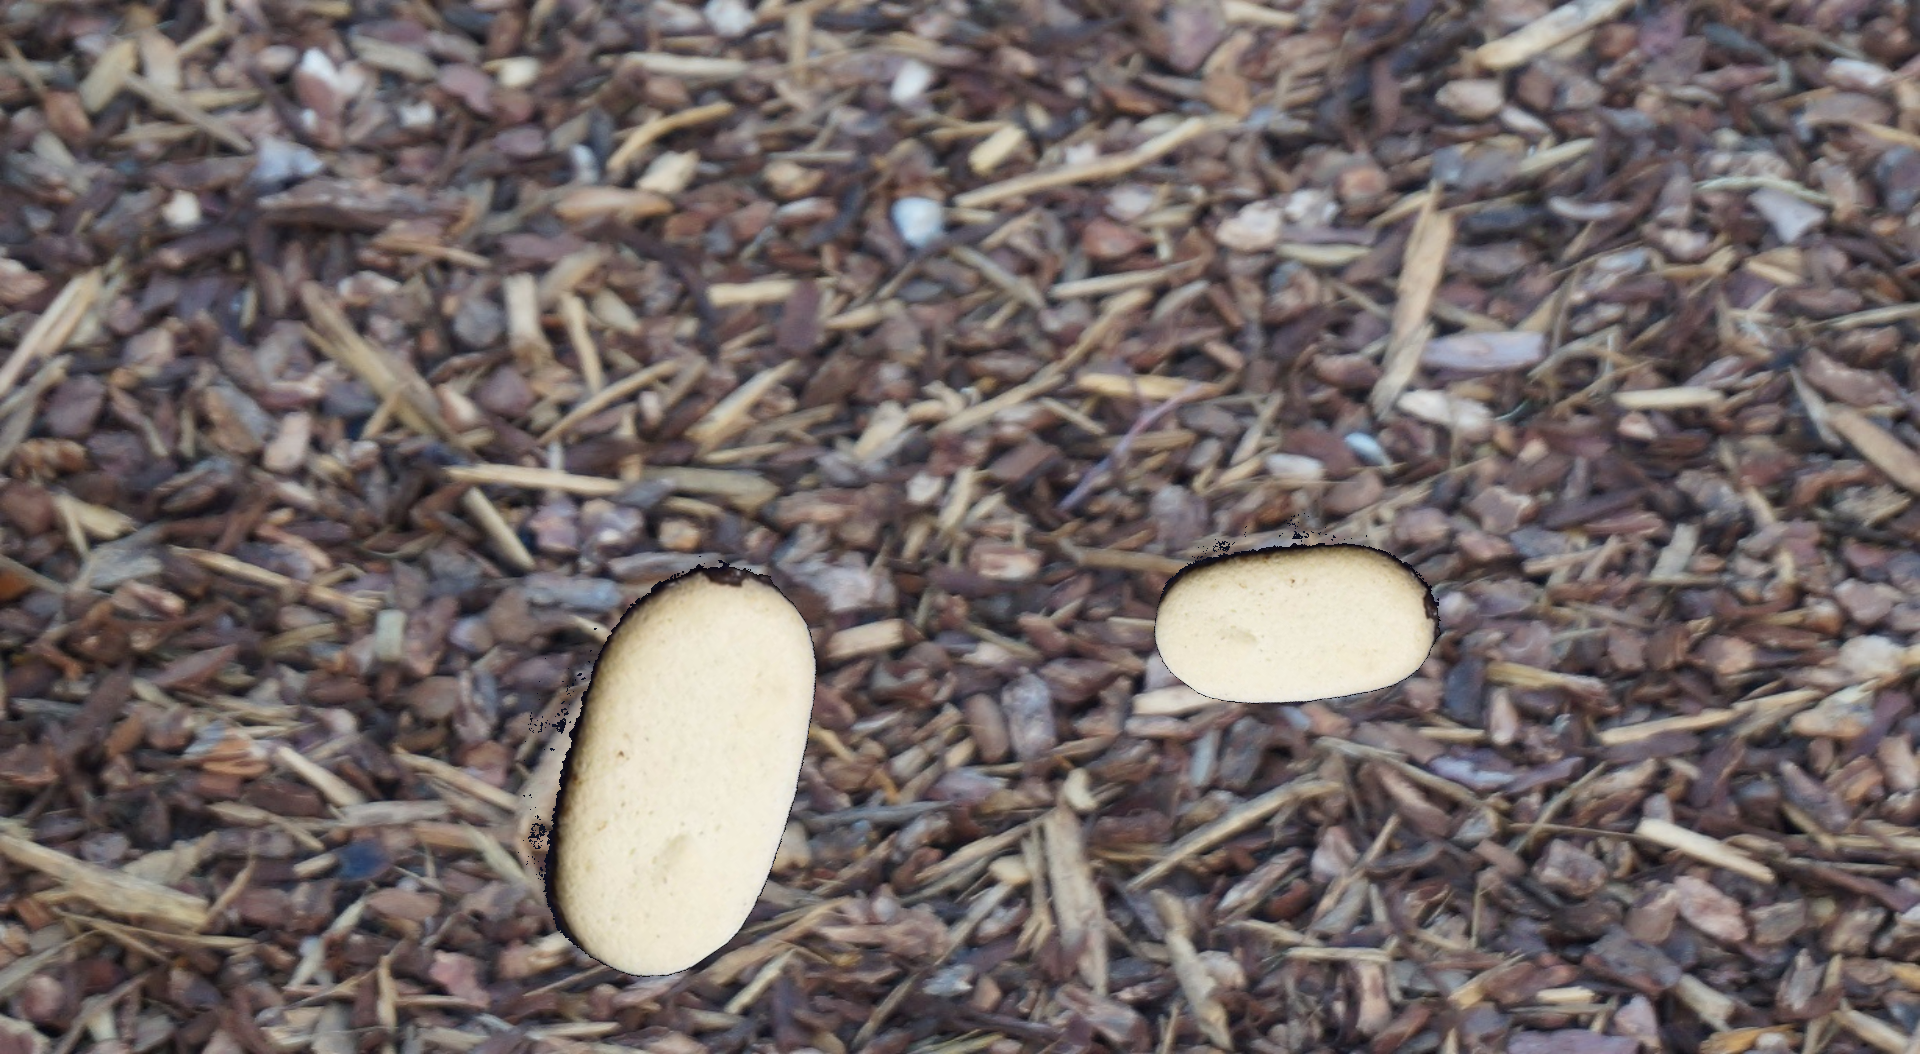test: (422, 521, 931, 1020), (1121, 448, 1469, 792)
